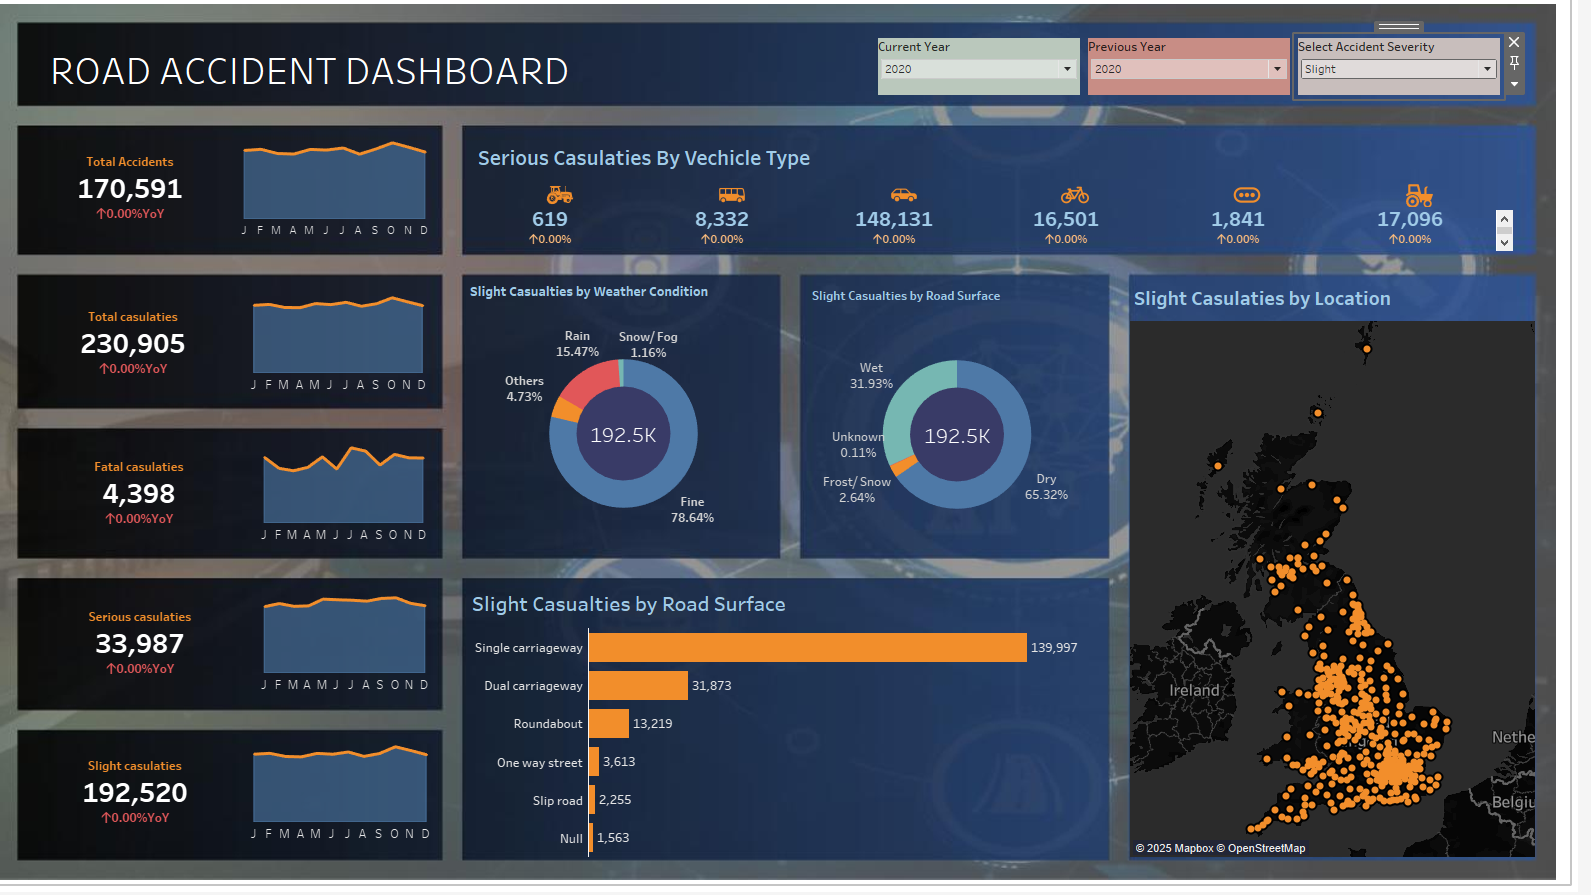

What the dashboard file says about the page in this screenshot:
{"tool":"tableau","page":{"name":"Dashboard 1","canvas":[1600,900],"ordinal":0},"visuals":[{"type":"image","param":"D:/Tableau Project/Background.pptx (1).jpg","box":[8,8,1584,884]},{"type":"parameter","param":"[Parameters].[Parameter 1]","box":[896,42,210,65]},{"type":"parameter","param":"[Parameters].[Current Year (copy)_1141381047319044097]","box":[1106,42,210,65]},{"type":"parameter","param":"[Parameters].[Parameter 2]","box":[1316,42,210,65]},{"type":"text","box":[69,51,526,52]},{"type":"worksheet","title":"Total Accidents","mark":"Automatic","box":[49,141,205,110]},{"type":"worksheet","title":"Accident Sparkline","mark":"Automatic","rows":["CY Accidents (copy)_1141381047320387587","Calculation_1141381047319310338"],"cols":["Accident Date"],"box":[254,141,205,110]},{"type":"worksheet","title":"Vechicle type Images","mark":"Shape","box":[496,147,1031,68]},{"type":"worksheet","title":"Vechicle type KPI","mark":"Automatic","box":[486,218,1059,45]},{"type":"worksheet","title":"Weather Condition","mark":"Pie","rows":["Calculation_550002122983239681","Calculation_550002122983329795"],"box":[488,286,315,278]},{"type":"worksheet","title":"By Location","mark":"Automatic","rows":["Latitude"],"cols":["Longitude"],"box":[1152,288,405,577]},{"type":"worksheet","title":" Road Surface","mark":"Pie","rows":["Calculation_550002122983239681","Calculation_550002122983329795"],"box":[830,291,298,271]},{"type":"worksheet","title":"Total Casualties","mark":"Automatic","box":[46,296,218,110]},{"type":"worksheet","title":"Total Casulaties Sparkline","mark":"Automatic","rows":["CY Casulaties (copy)_1141381047340236806","Calculation_1141381047338938373"],"cols":["Accident Date"],"box":[264,296,192,110]},{"type":"worksheet","title":"Fatal Casualties","mark":"Automatic","box":[46,446,229,110]},{"type":"worksheet","title":"Fatal Casulaties Sparkline ","mark":"Automatic","rows":["CY Fatal Casualities (copy)_1141381047629082633","Calculation_1141381047628148744"],"cols":["Accident Date"],"box":[275,446,180.9,110]},{"type":"worksheet","title":"Road Type","mark":"Automatic","rows":["Road_Type"],"cols":["Calculation_1141381047338938373"],"box":[490,593,636,272]},{"type":"worksheet","title":"Serious Casualties ","mark":"Automatic","box":[48,596,227,110]},{"type":"worksheet","title":"Serious Casulaties Sparkline ","mark":"Automatic","rows":["CY Serious Casualities (copy)_1141381047631986700","CY Fatal Casualities (copy)_1141381047631228939"],"cols":["Accident Date"],"box":[275,596,183,110]},{"type":"worksheet","title":"Slight Casualties ","mark":"Automatic","box":[50,745,214,110]},{"type":"worksheet","title":"Slight Casulaties Sparkline","mark":"Automatic","rows":["CY Slight Casualities  (copy)_1141381047633829903","CY Fatal Casualities (copy)_1141381047633440782"],"cols":["Accident Date"],"box":[264,745,195.8,110]}]}

Visuals, with their boxes in screenshot pixels (x1, y1, x2, y2), scaled from the page's 1600x900 canvas onto the 1591x895 screenshot:
image: bbox=[8, 8, 1583, 887]
parameter: bbox=[891, 42, 1100, 106]
parameter: bbox=[1100, 42, 1309, 106]
parameter: bbox=[1309, 42, 1517, 106]
text: bbox=[69, 51, 592, 102]
"Total Accidents" worksheet: bbox=[49, 140, 253, 250]
"Accident Sparkline" worksheet: bbox=[253, 140, 456, 250]
"Vechicle type Images" worksheet (Shape marks): bbox=[493, 146, 1518, 214]
"Vechicle type KPI" worksheet: bbox=[483, 217, 1536, 262]
"Weather Condition" worksheet (Pie marks): bbox=[485, 284, 798, 561]
"By Location" worksheet: bbox=[1146, 286, 1548, 860]
" Road Surface" worksheet (Pie marks): bbox=[825, 289, 1122, 559]
"Total Casualties" worksheet: bbox=[46, 294, 263, 404]
"Total Casulaties Sparkline" worksheet: bbox=[263, 294, 453, 404]
"Fatal Casualties" worksheet: bbox=[46, 444, 273, 553]
"Fatal Casulaties Sparkline " worksheet: bbox=[273, 444, 453, 553]
"Road Type" worksheet: bbox=[487, 590, 1120, 860]
"Serious Casualties " worksheet: bbox=[48, 593, 273, 702]
"Serious Casulaties Sparkline " worksheet: bbox=[273, 593, 455, 702]
"Slight Casualties " worksheet: bbox=[50, 741, 263, 850]
"Slight Casulaties Sparkline" worksheet: bbox=[263, 741, 457, 850]
